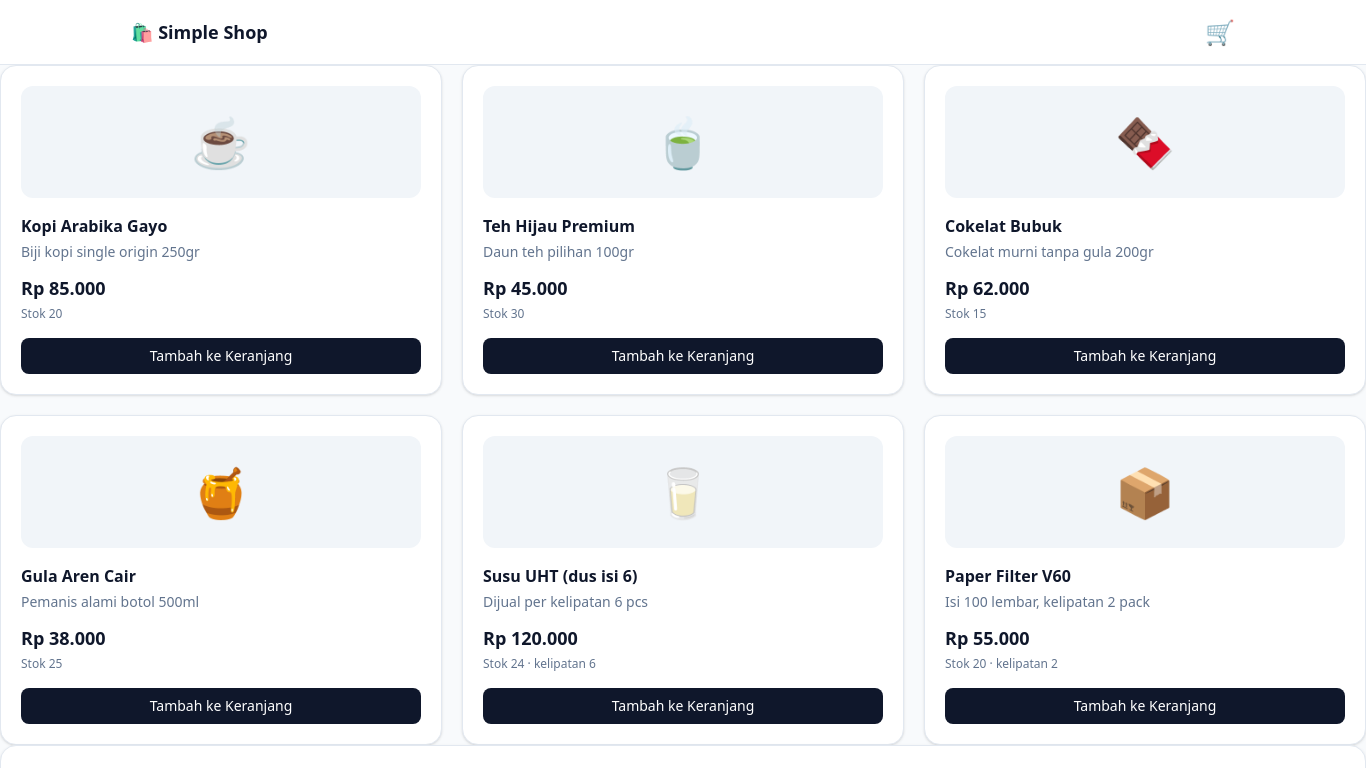
Test case: Cart › menaikkan kuantitas sesuai kelipatan produk lewat tombol +
The width and height of the screenshot is (1366, 768).
Click the button "Tambah ke Keranjang" below "24" at x=683, y=706, box [483,688,883,724]
(page scrolled)
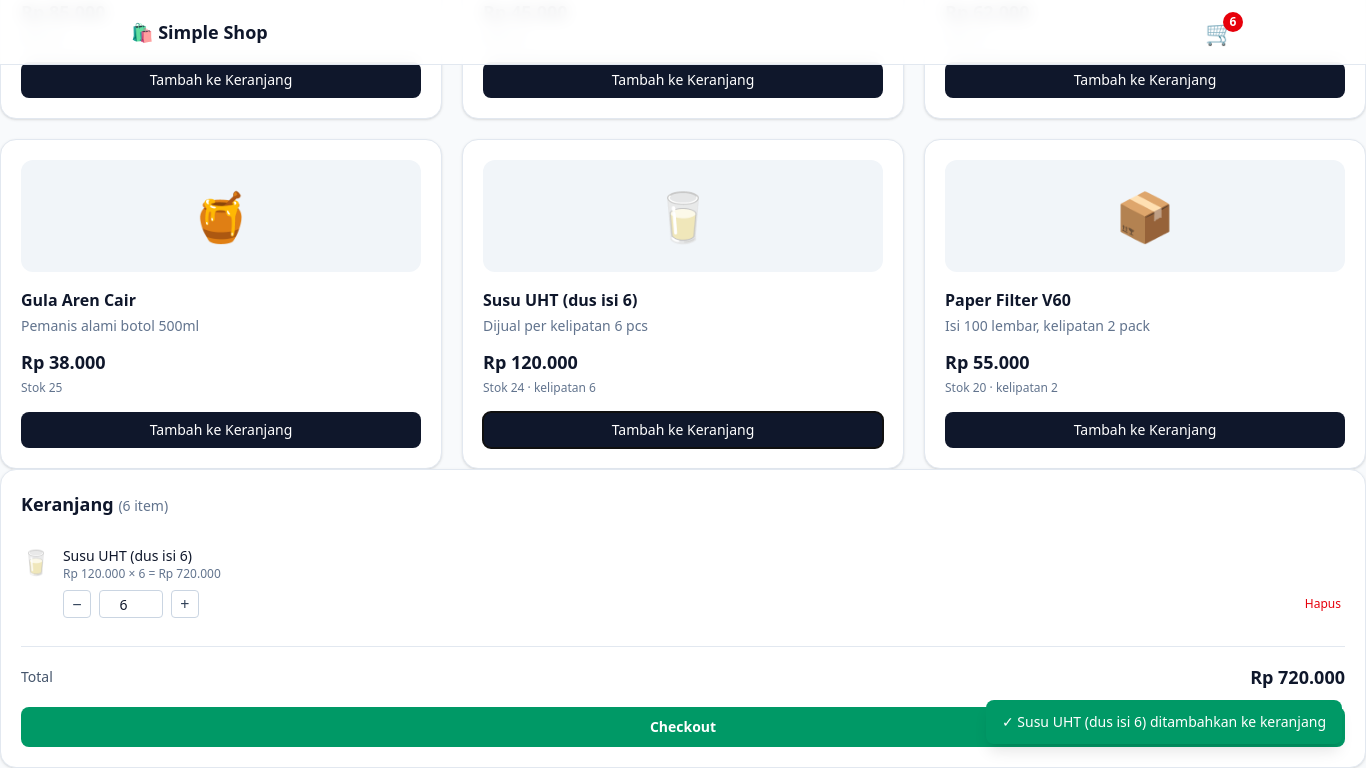
Click the button named "tambah susu uht" at x=185, y=604, box [171,590,199,618]
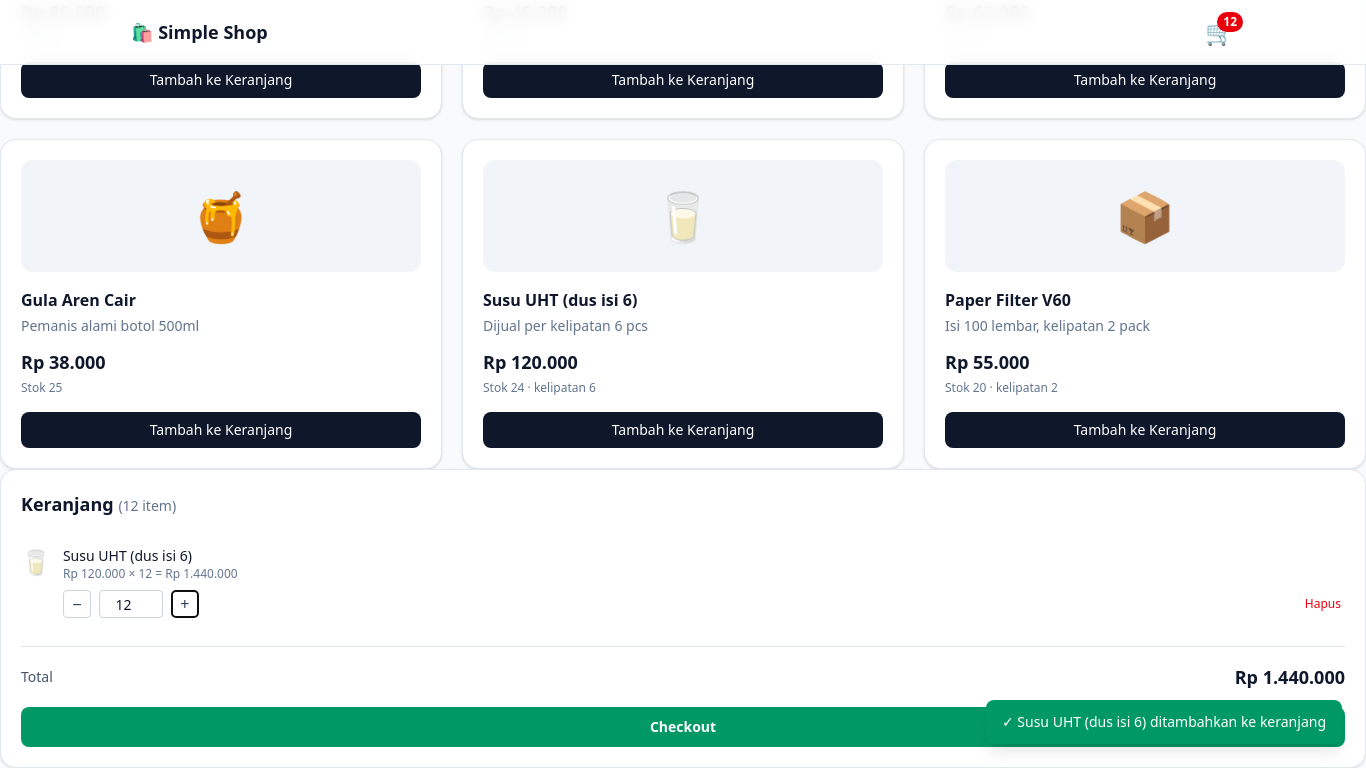
Expected: the number field named "kuantitas susu uht" holds "12", [99,590,163,618]
